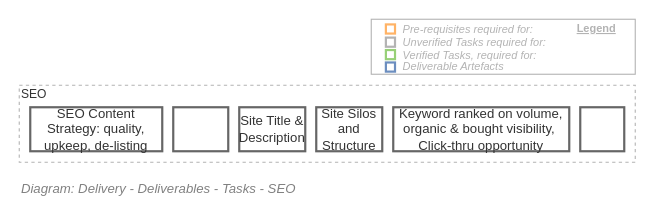
This 655x219 diagram has some shape labels left out. The centre of each missing label's shape, as x and y in pixels:
"Page Tags" goes at (602,129).
"SEO Analytics KPIs" goes at (200,129).
